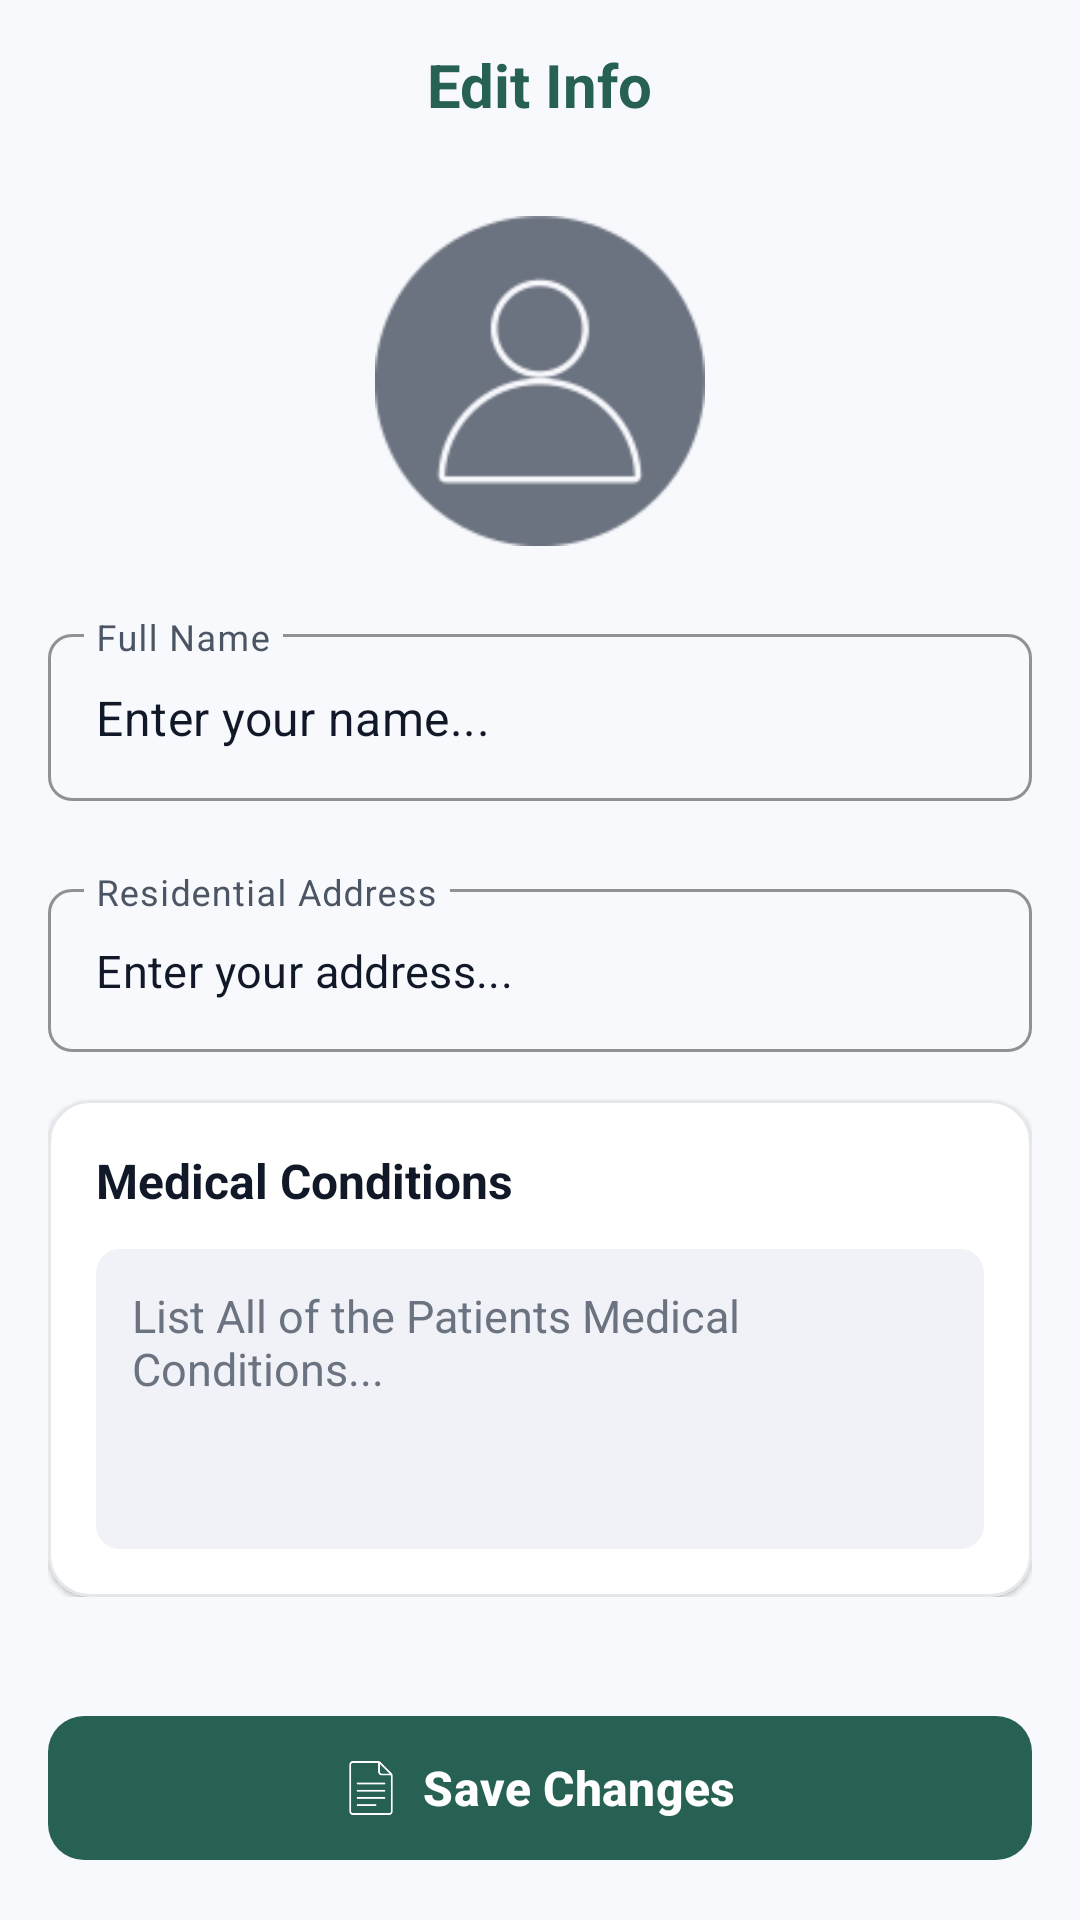

Where to tap for icons on this 1080px×1920px app screen, as point (x, y):
profile: point (540, 381)
